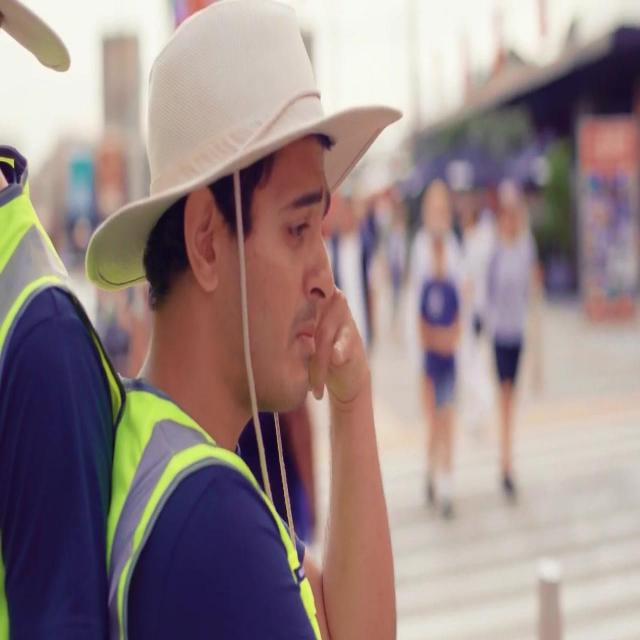Reflective-Jacket: (105, 385, 325, 640), (1, 186, 116, 640)
